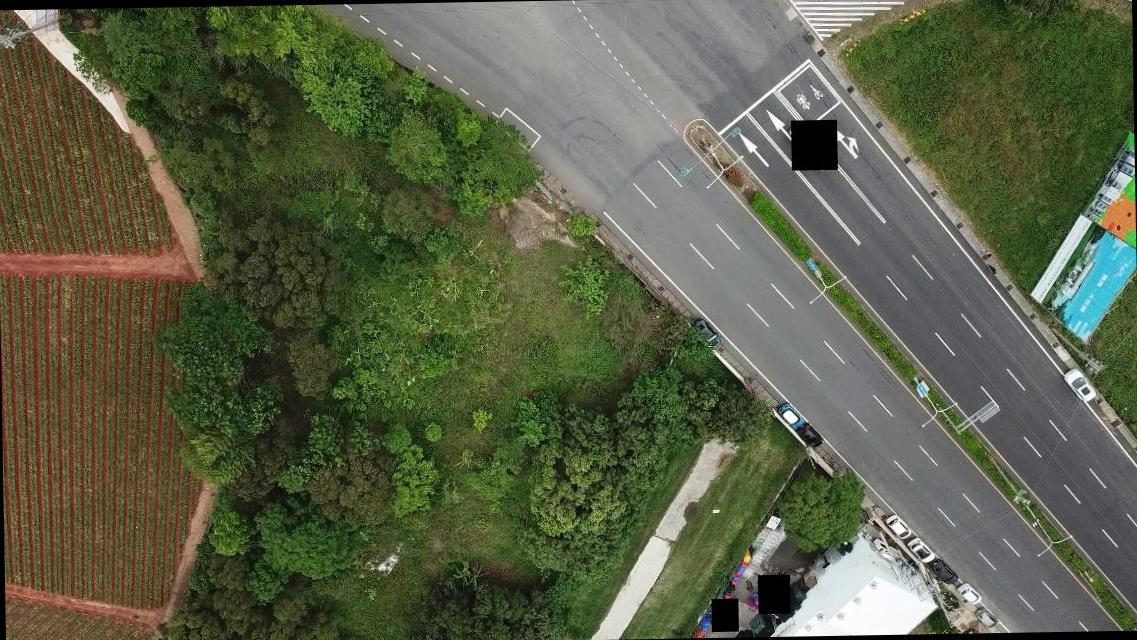vehicle: (1062, 366, 1096, 404), (692, 315, 722, 348), (905, 538, 933, 564), (930, 562, 958, 586), (885, 514, 909, 542), (799, 424, 824, 450), (778, 401, 802, 428), (957, 582, 982, 604), (976, 608, 998, 630)
